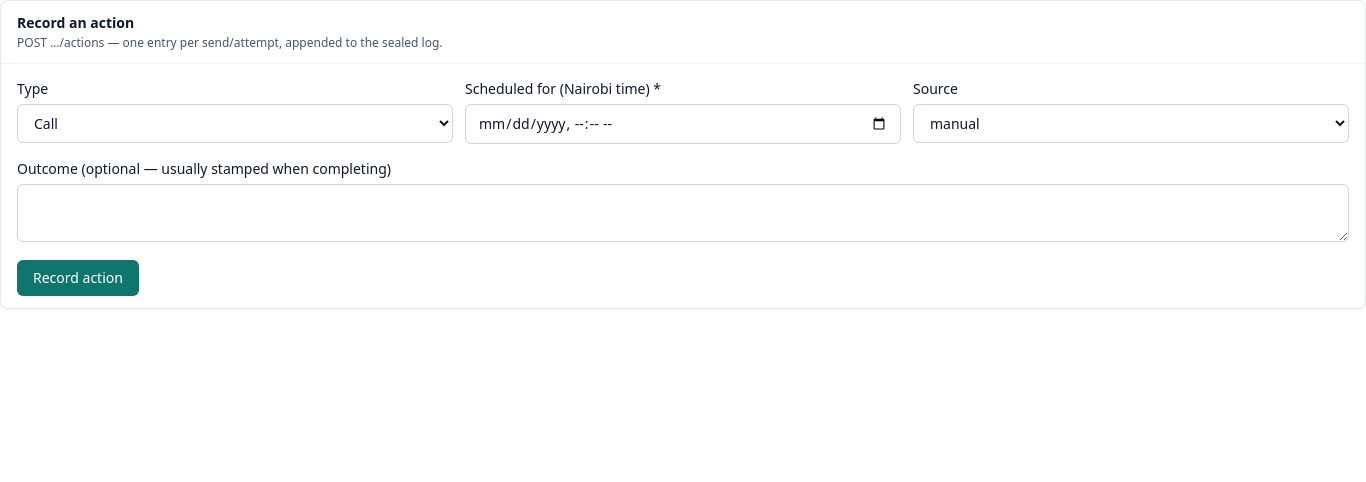
Scenario: CaseRecordActionPanel submission › carries the consentRef on an automated outbound send
Step 1. Select "WhatsApp" in the dropdown labelled "Type" → [235, 124], box [17,104,453,143]
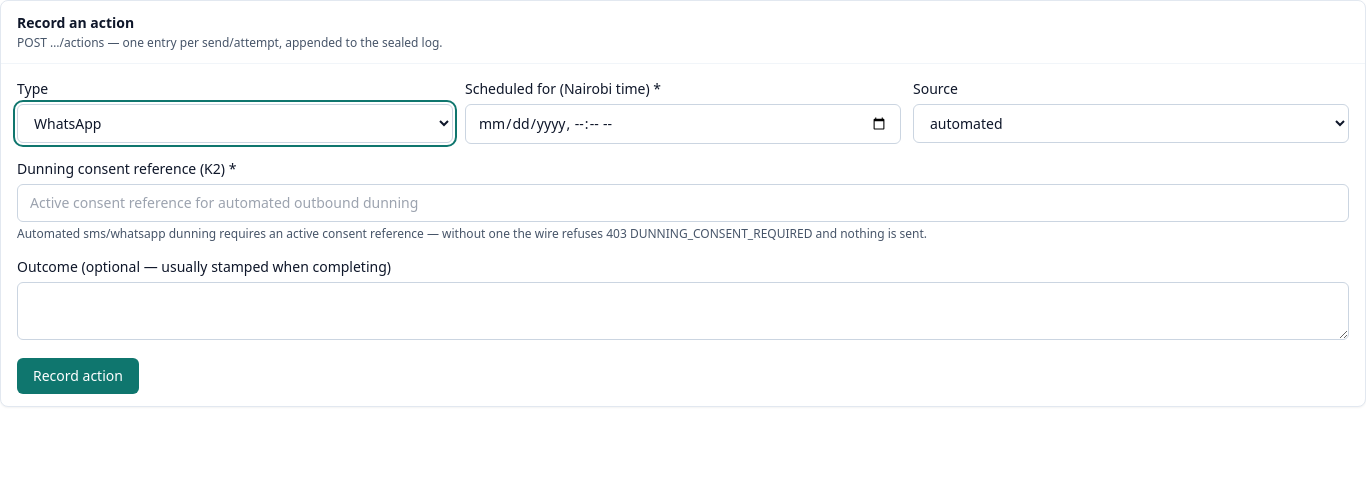
Step 2. Type "2026-09-02T09:00" into the field labelled "Scheduled for (Nairobi time) *" → [683, 124], box [465,104,901,144]
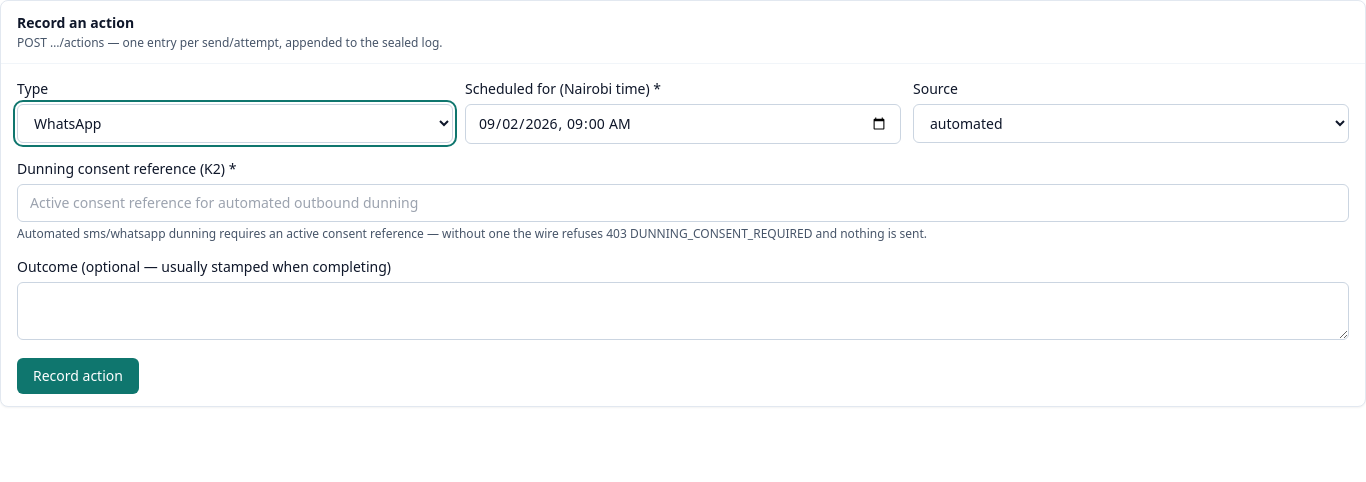
Step 3. Type "consent-8f3e-2026" into the field labelled "Dunning consent reference (K2) *" → [683, 203], box [17,184,1349,222]
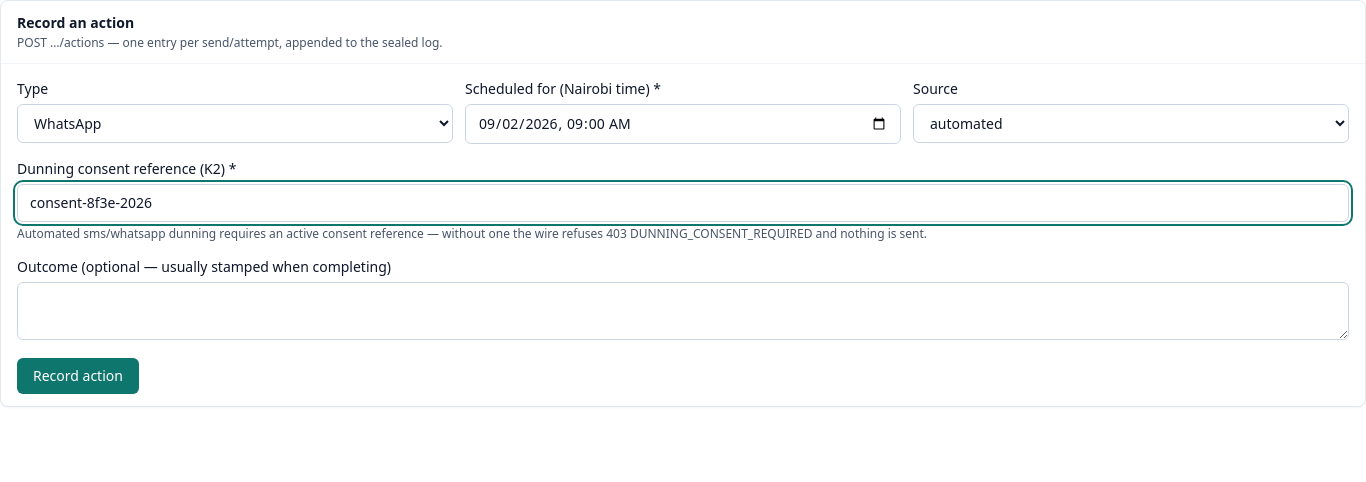
Step 4. Click the button "Record action" → [78, 376], box [17,358,139,394]
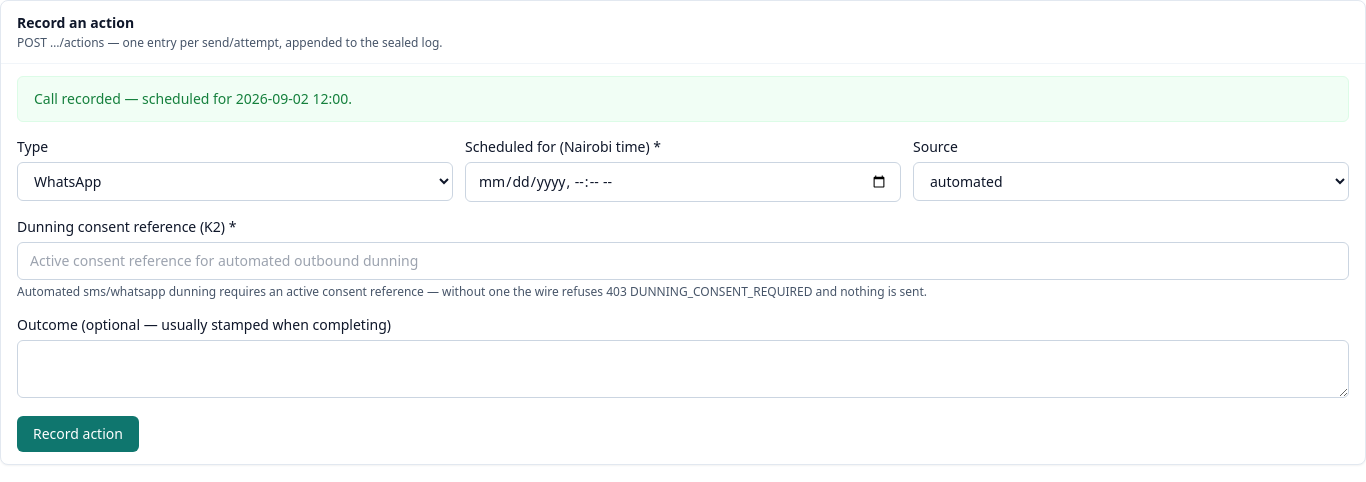
Now the message "Call recorded — scheduled for 2026-09-02 12:00." is shown, box [17,76,1349,122]
